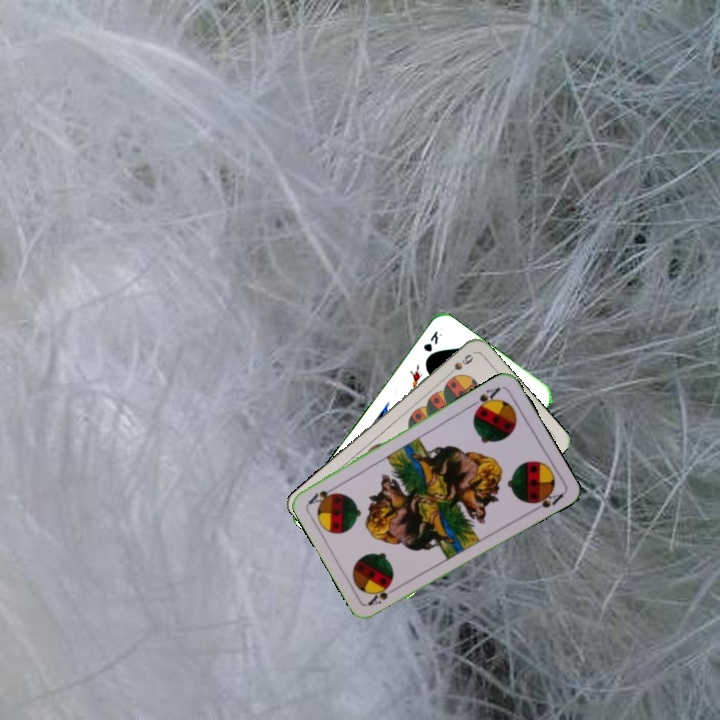GK: (419, 326, 445, 355)
S9: (442, 350, 476, 380)
SA: (467, 383, 503, 414), (364, 580, 402, 608)
